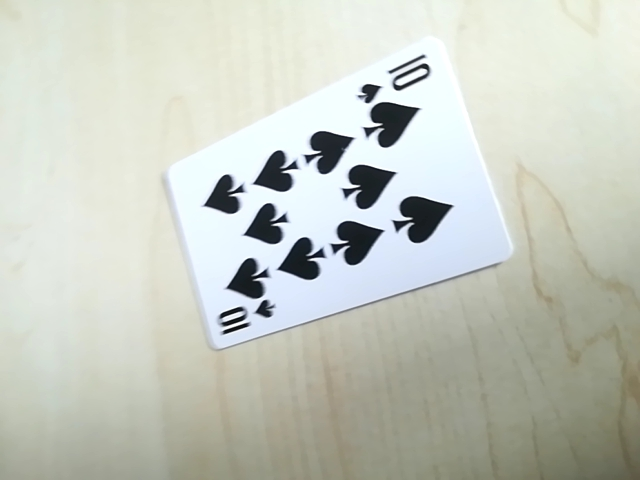ht 10: (354, 49, 444, 104), (209, 294, 279, 344)
